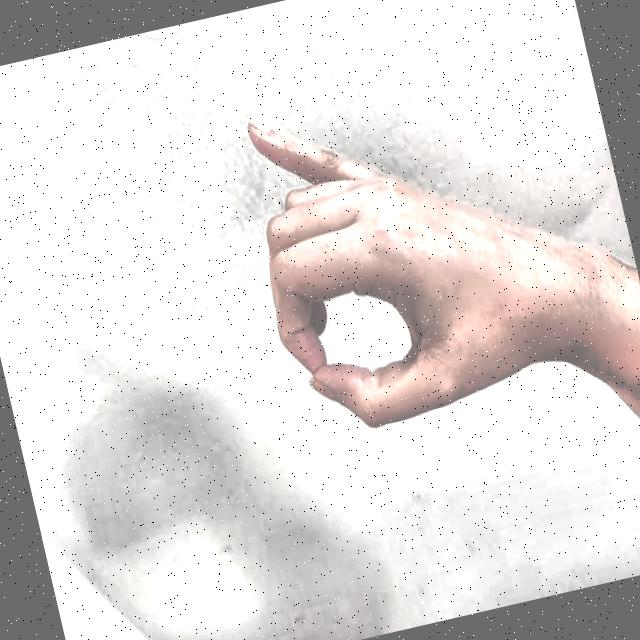Ou: (198, 34, 576, 490)
